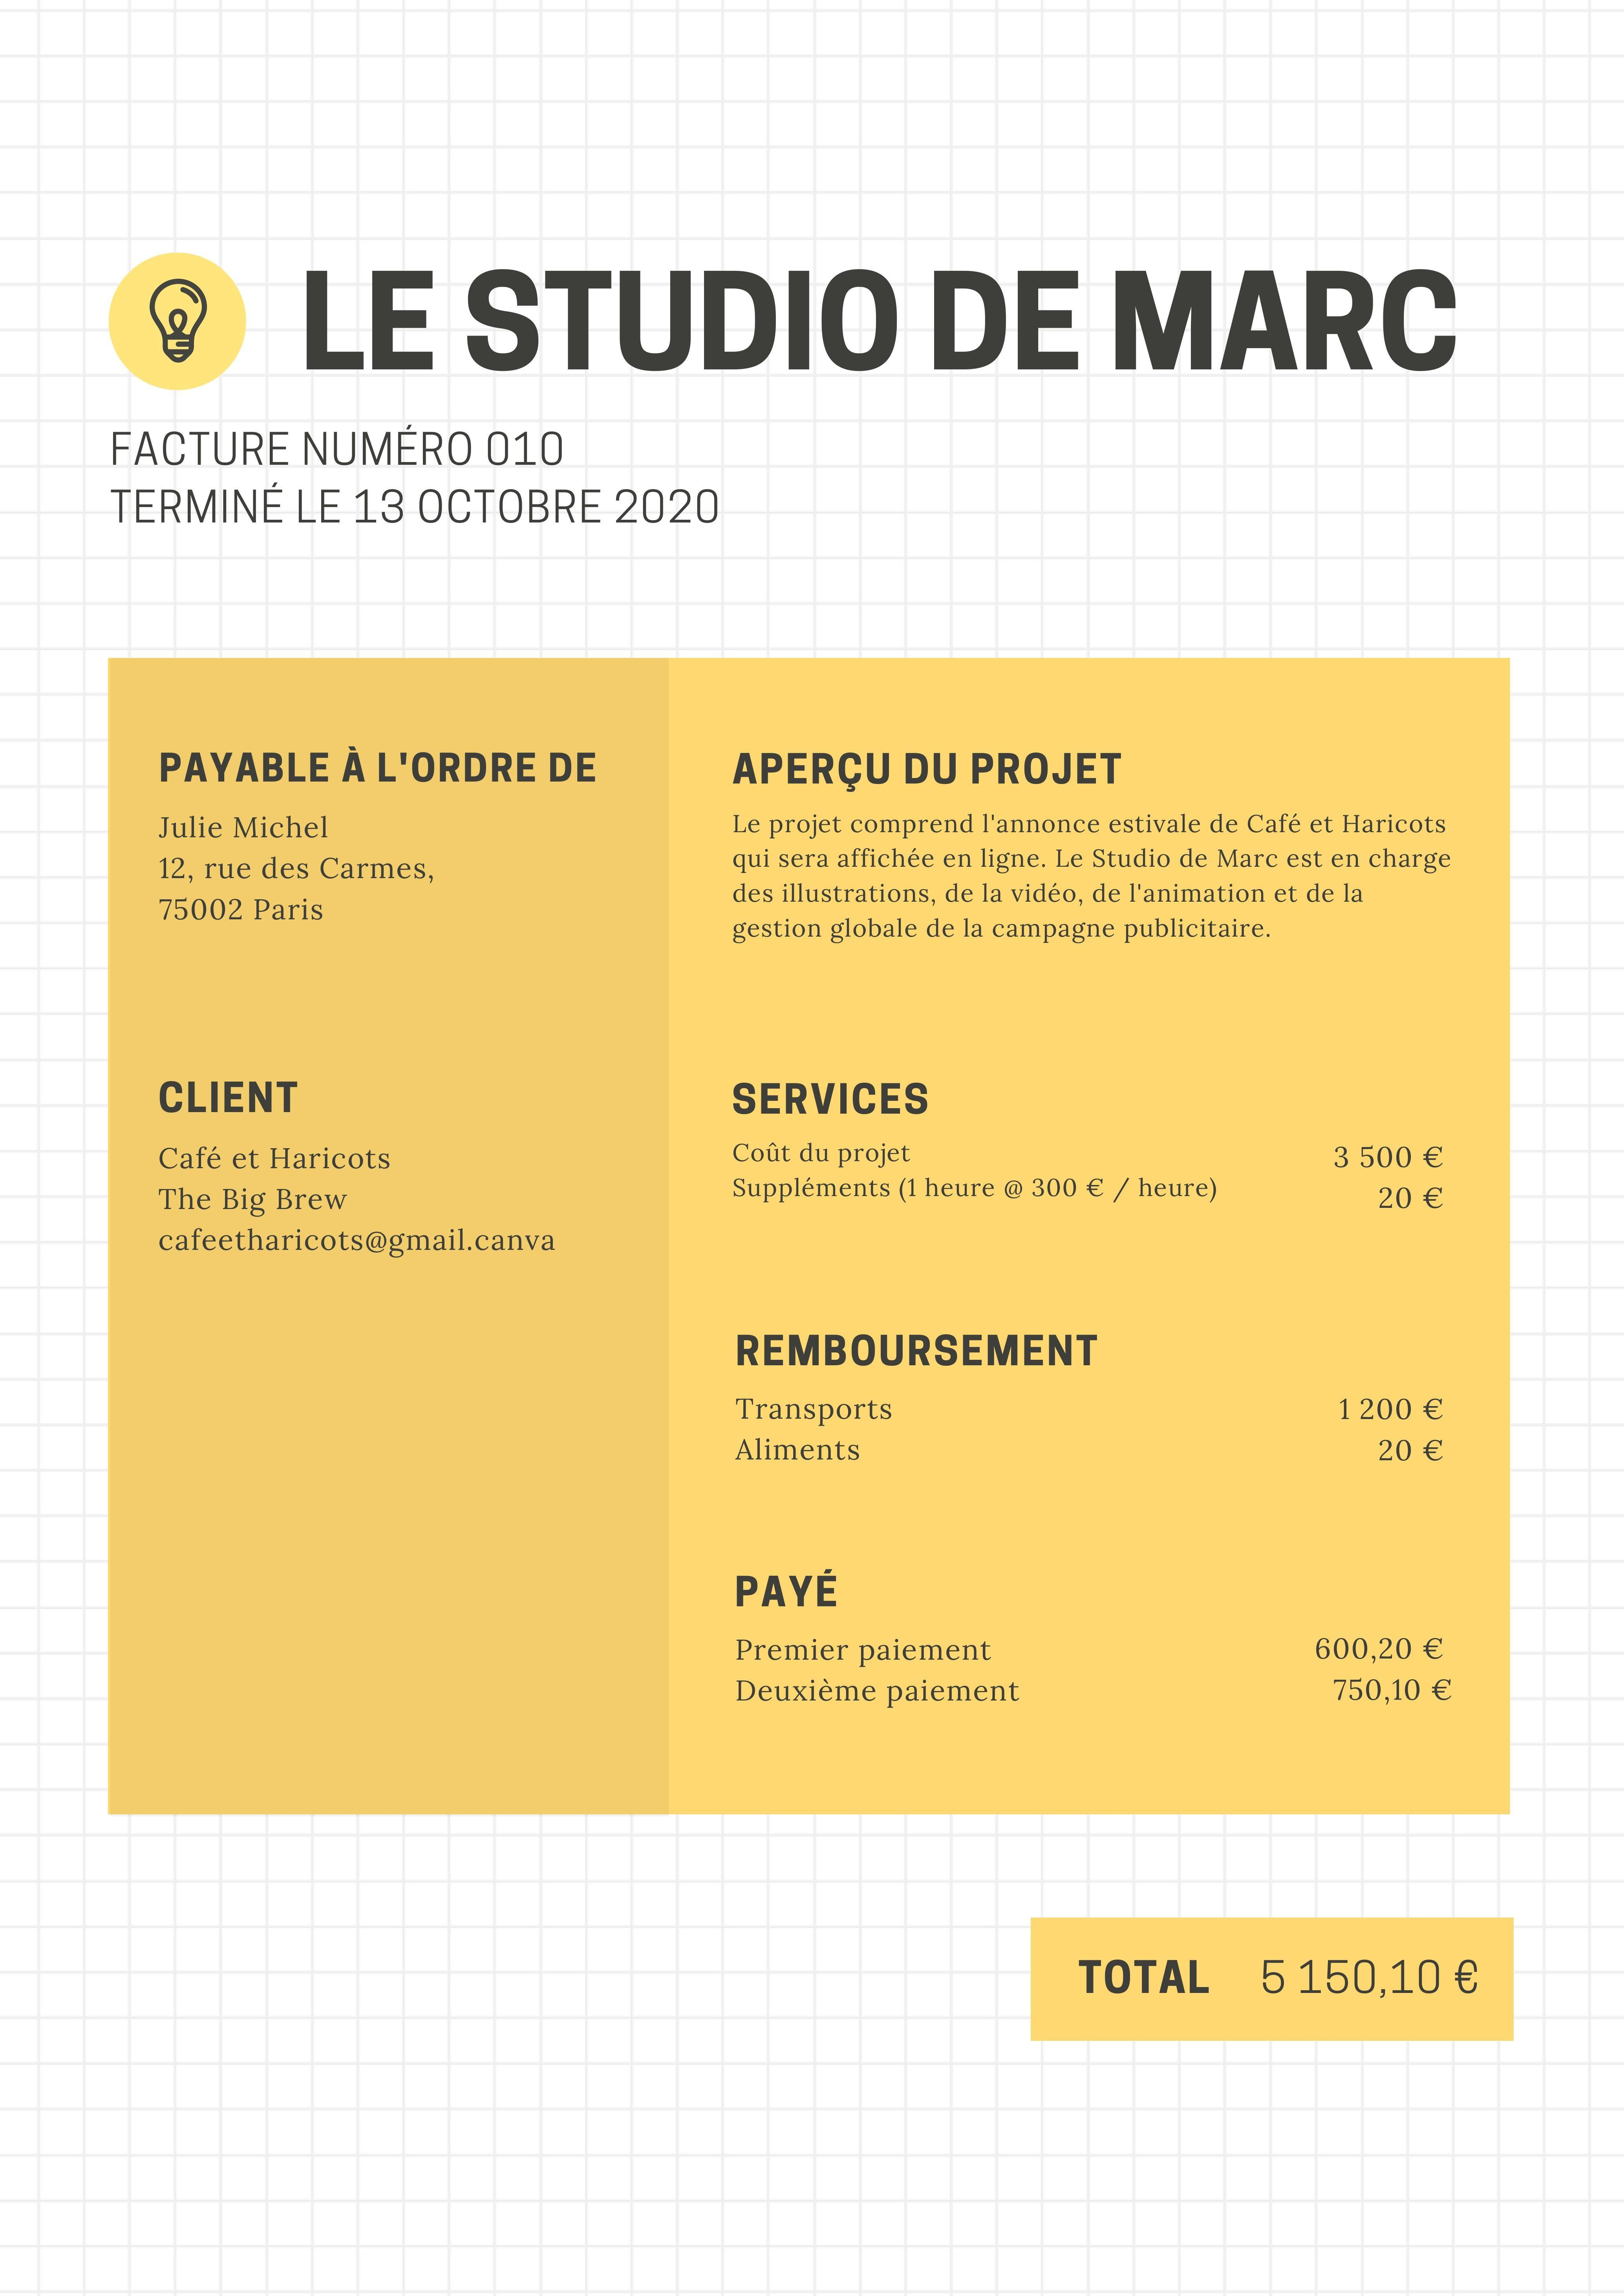ROI: (713, 1056, 1479, 1727), (274, 233, 1493, 384), (131, 1052, 614, 1279), (138, 737, 647, 941), (93, 403, 777, 540), (1051, 1938, 1496, 2012)
